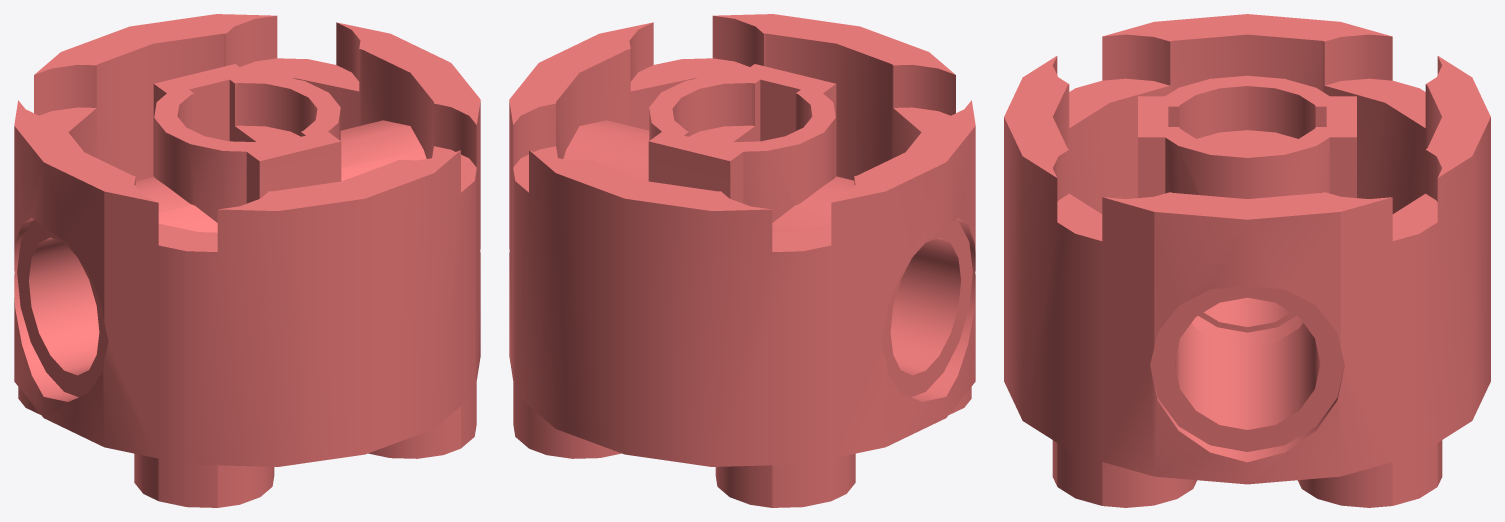
3 views of the same model, side by side, from view 1: azimuth 30°, elevation 25°; view 2: azimuth 150°, elevation 25°; view 3: azimuth 270°, elevation 25° (orthographic). The views are drawn at different scales.
Parts seen in each view (by area): view 1: LDrawPart; view 2: LDrawPart; view 3: LDrawPart.
Part boxes in pixels (x1,y1,x2,y2): LDrawPart: (14,14,480,507); LDrawPart: (509,14,975,507); LDrawPart: (1004,14,1490,507).
Bounding box in the file's own units: 0.28 × 0.196 × 0.28.
